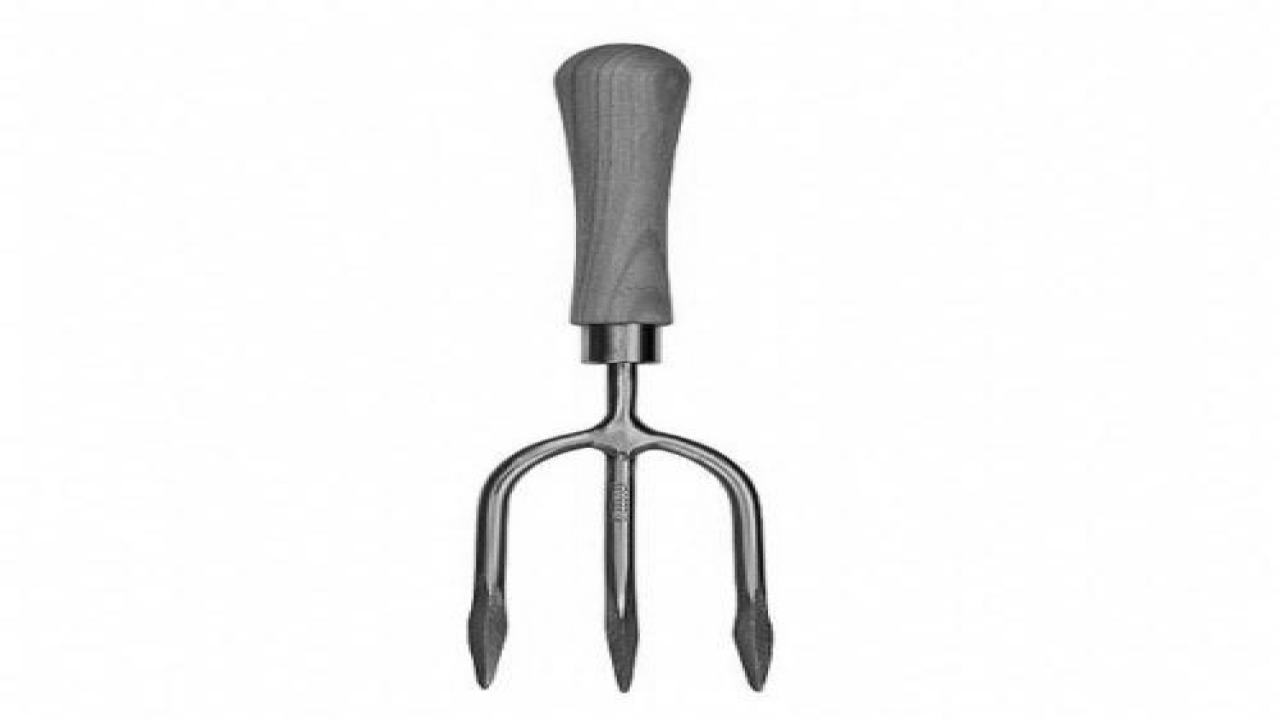fork: (466, 41, 773, 692)
